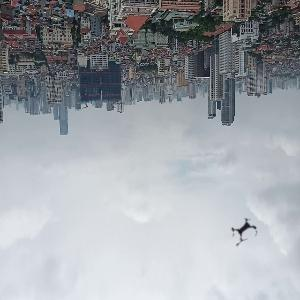drone: (221, 208, 270, 257)
